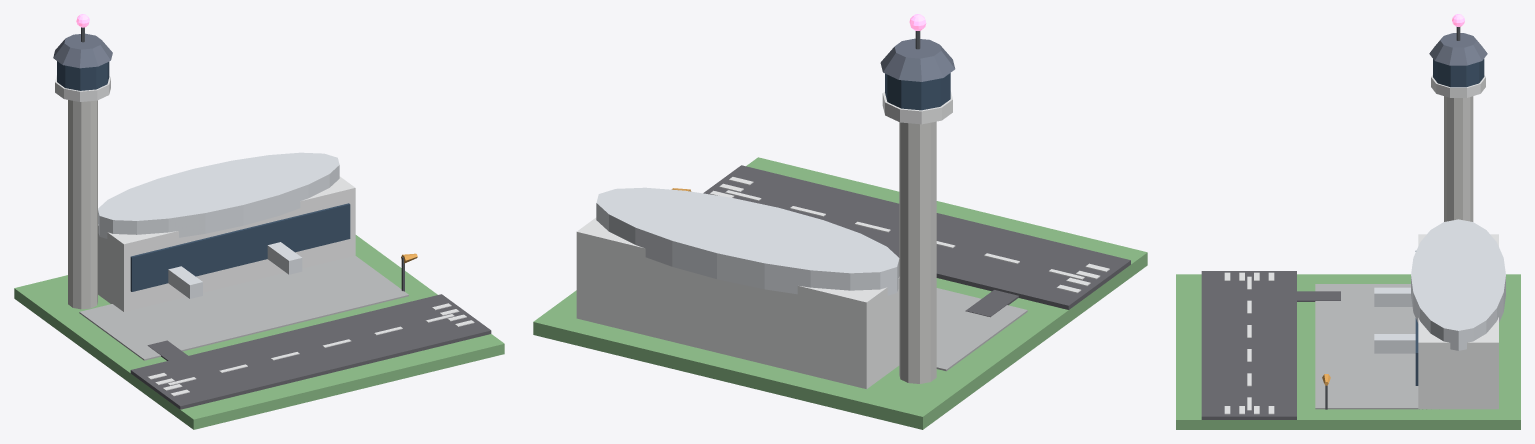
The model's file is airport.glb.
3 renders of one model, left to right at view 1: azimuth 30°, elevation 25°; view 2: azimuth 150°, elevation 25°; view 3: azimuth 270°, elevation 25°, orthographic. The views are drawn at different scales.
Parts seen in each view (by area): view 1: airport_body; view 2: airport_body; view 3: airport_body.
Part boxes in pixels (x1=…): airport_body: x1=14, y1=27, x2=504, y2=429; airport_body: x1=533, y1=31, x2=1147, y2=429; airport_body: x1=1176, y1=27, x2=1520, y2=429.
Bounding box in the file's own units: 0.94 × 0.863 × 0.94.
